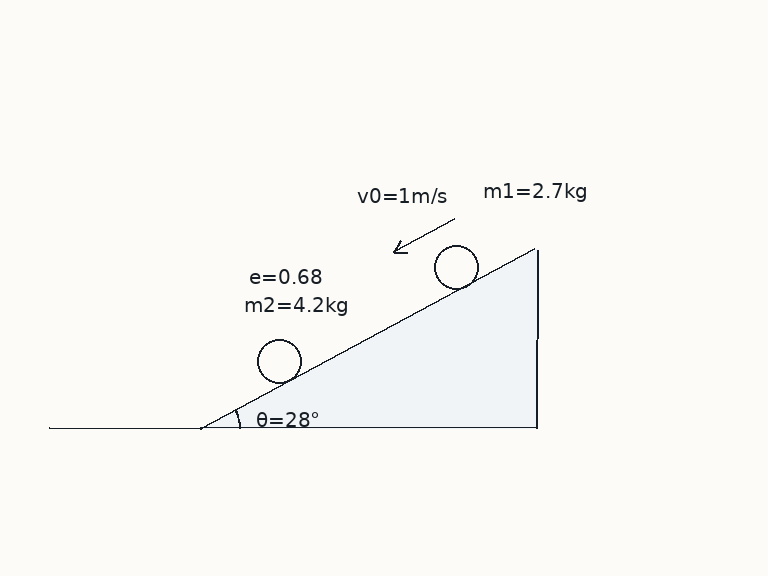ball: (432, 243, 480, 291), (255, 337, 303, 385)
ramp: (198, 247, 538, 430)
